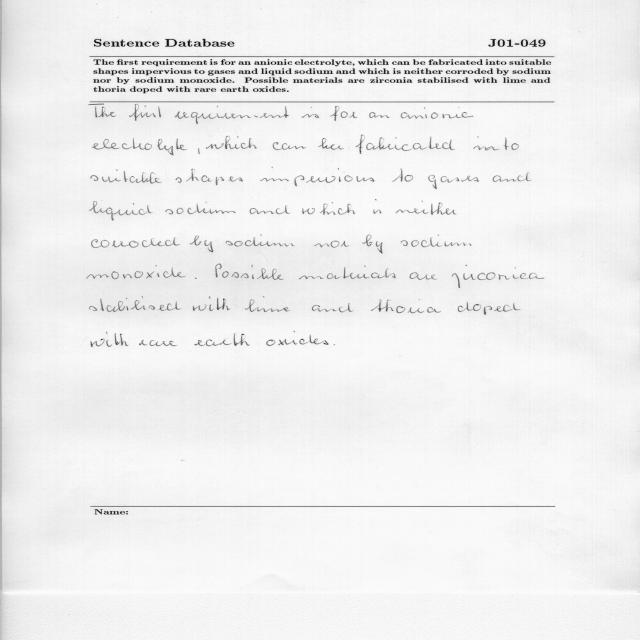word: (260, 167, 375, 186), (452, 265, 545, 288), (175, 106, 289, 124), (355, 135, 455, 154), (93, 139, 187, 155), (90, 296, 182, 312), (87, 265, 186, 279), (299, 266, 396, 280), (89, 201, 152, 221), (215, 264, 284, 280), (175, 169, 243, 185), (91, 169, 161, 184), (371, 299, 441, 313), (92, 237, 180, 248), (266, 331, 329, 346), (401, 235, 472, 248), (396, 200, 457, 215), (166, 202, 236, 215), (401, 107, 474, 119), (226, 235, 295, 247), (458, 302, 520, 315), (194, 334, 250, 347), (245, 296, 290, 312), (428, 175, 479, 189), (302, 202, 356, 215), (206, 136, 257, 149), (473, 137, 519, 151), (91, 332, 129, 347), (193, 296, 230, 311), (129, 104, 161, 121), (330, 106, 358, 121), (190, 236, 214, 252), (493, 172, 531, 182), (363, 235, 383, 254), (250, 205, 291, 214), (312, 304, 353, 313), (89, 104, 116, 117), (318, 138, 344, 150), (392, 168, 413, 182), (273, 142, 306, 150), (314, 241, 350, 248), (140, 340, 178, 346), (410, 272, 437, 280), (302, 107, 319, 118), (369, 112, 390, 118), (374, 199, 382, 214), (198, 148, 200, 154), (195, 278, 197, 279), (334, 344, 335, 345)
